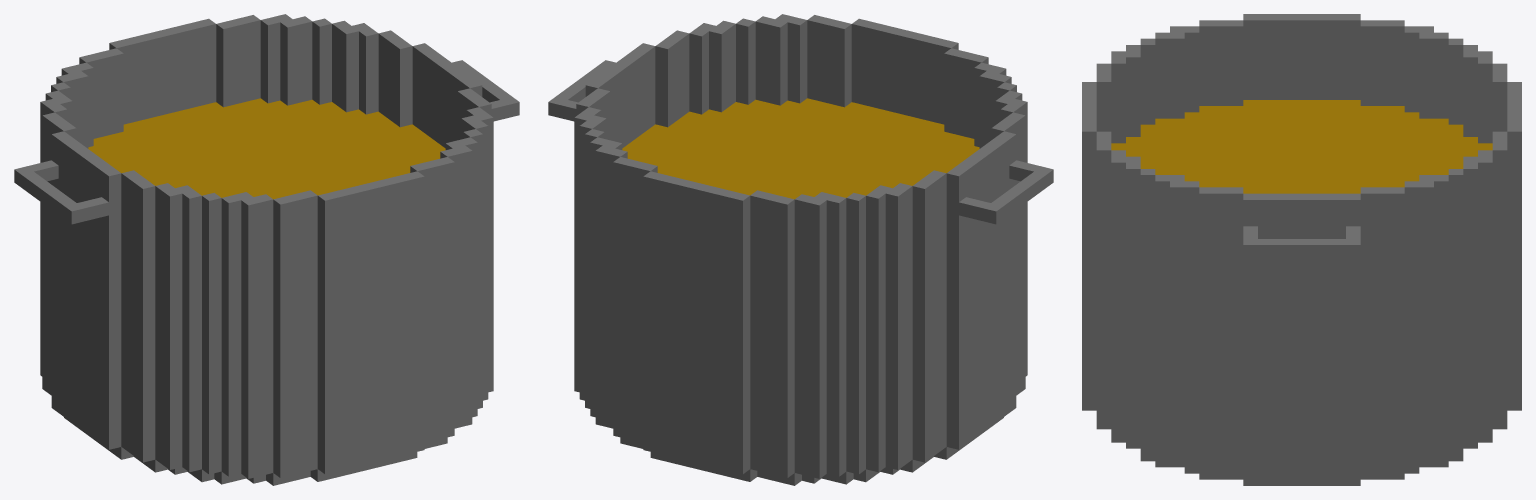
File: SoupCookingPot.obj
3 renders of one model, left to right at view 1: azimuth 30°, elevation 25°; view 2: azimuth 150°, elevation 25°; view 3: azimuth 270°, elevation 25°, orthographic.
Bounding box in the file's own units: 3.6 × 2.2 × 3.
1 material, 1 textured.
